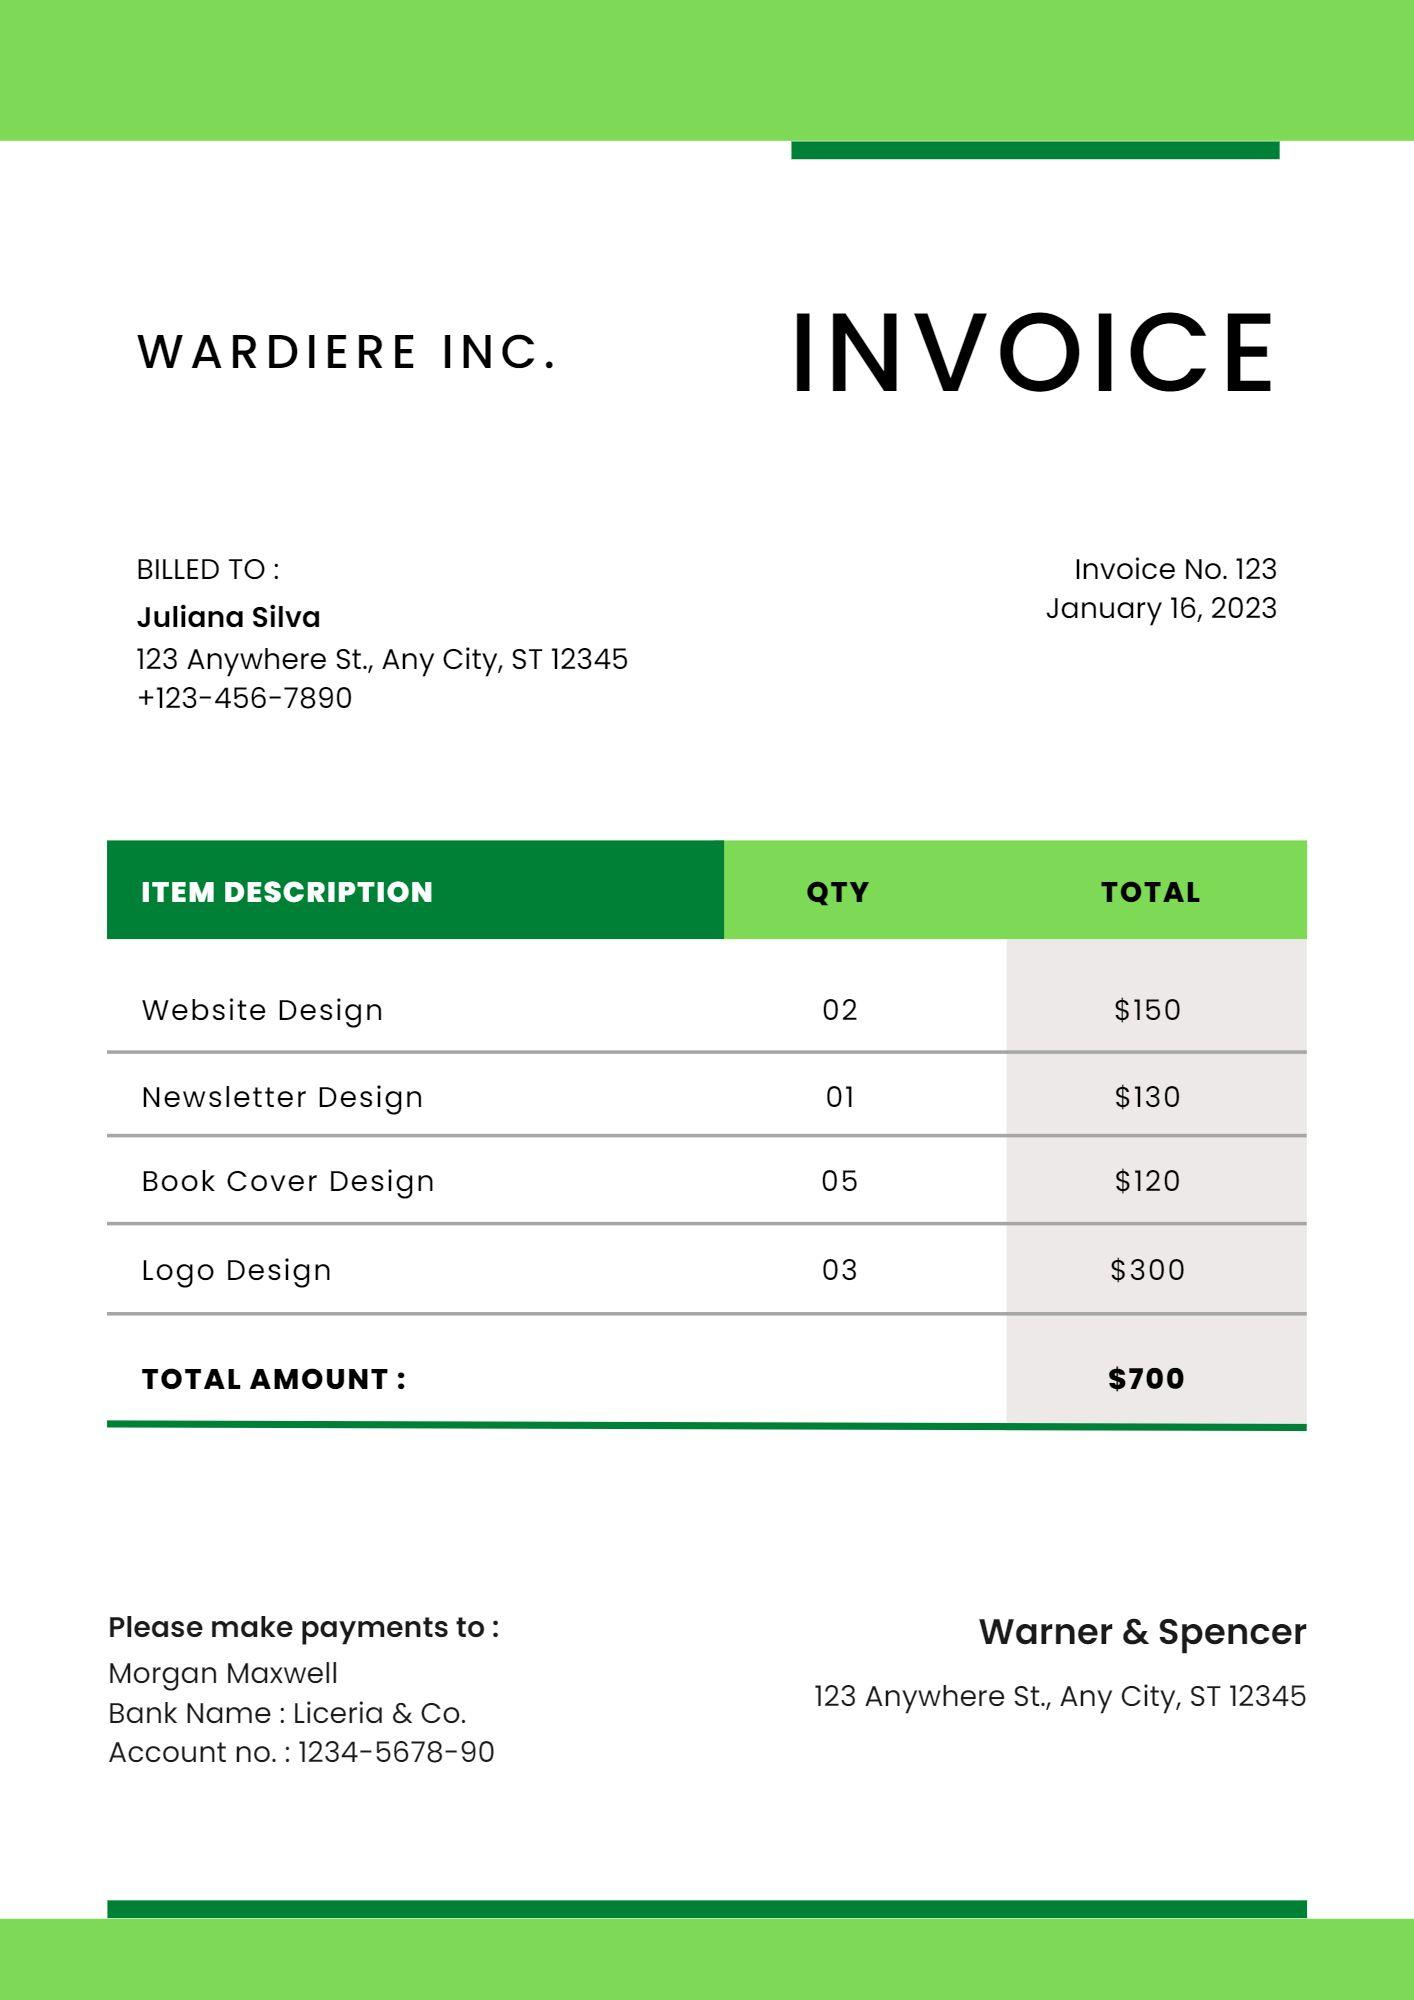ROI: (95, 823, 1295, 1443)
